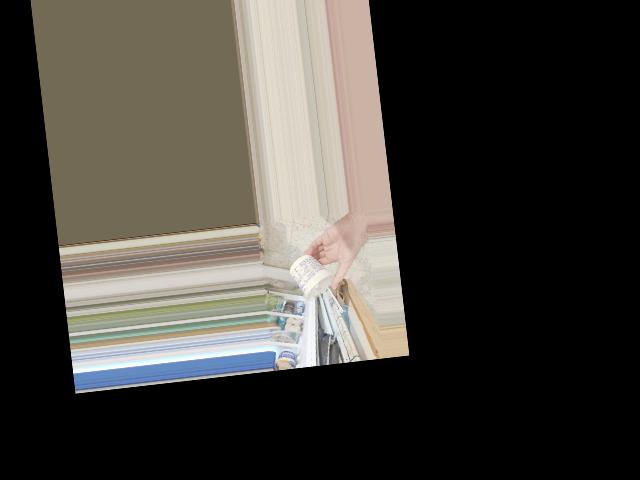cotage: (290, 257, 337, 304)
